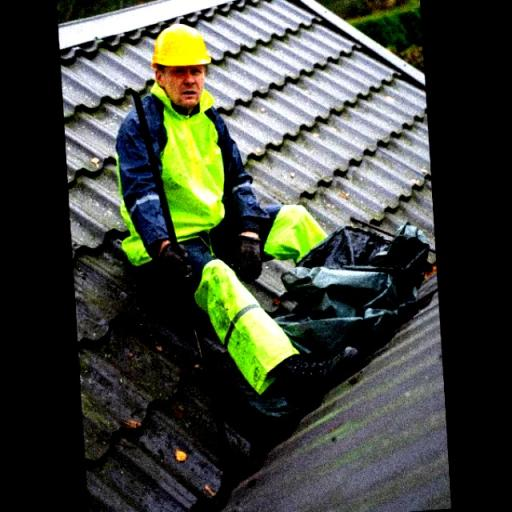Person: (90, 24, 395, 465), (82, 22, 418, 422)
boots: (252, 332, 380, 406)
gloves: (232, 228, 266, 284), (158, 242, 196, 283)
helmet: (153, 34, 215, 73)
vest: (112, 88, 233, 263)
